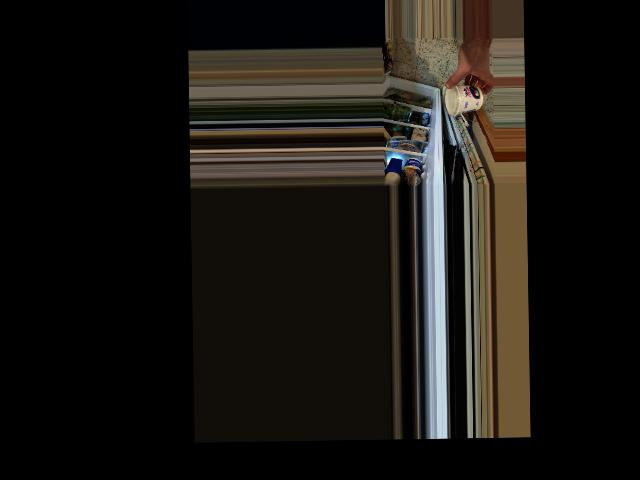cotage: (444, 86, 486, 115)
